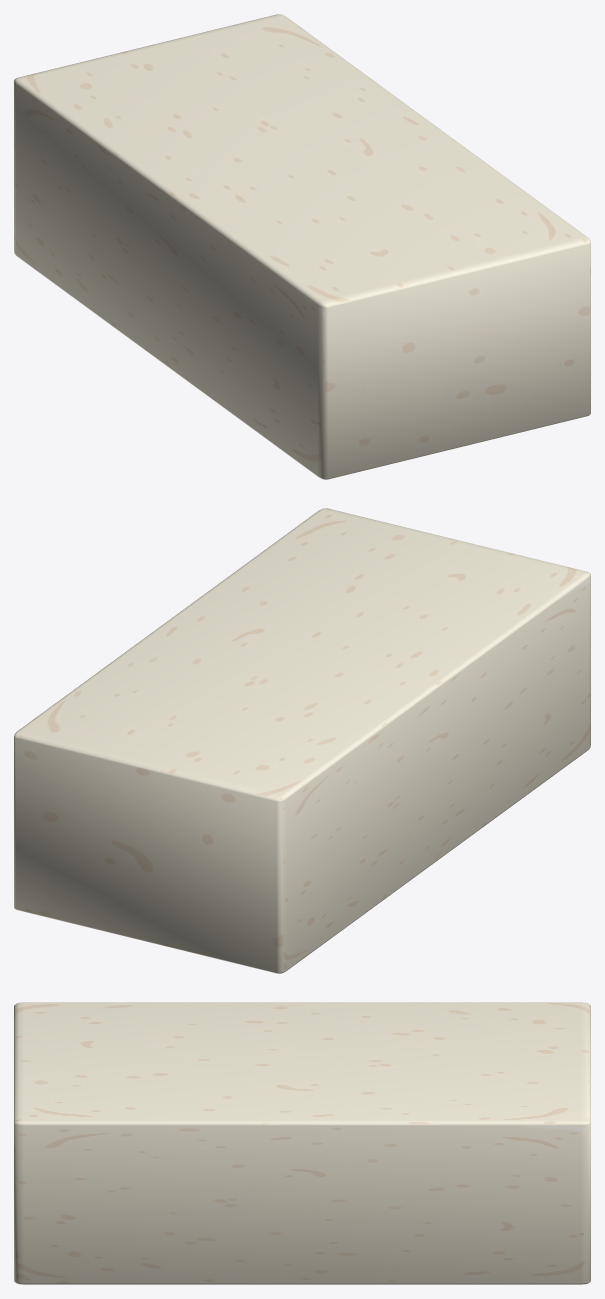
File: tofu.fbx
3 views of the same model, one above another, from view 1: azimuth 30°, elevation 25°; view 2: azimuth 150°, elevation 25°; view 3: azimuth 270°, elevation 25° (orthographic). The views are drawn at different scales.
Visible parts, largest first — view 1: Tofu; view 2: Tofu; view 3: Tofu.
Boxes of the visible parts, bbox=[...] form: Tofu: bbox=[14, 14, 590, 479]; Tofu: bbox=[14, 508, 590, 973]; Tofu: bbox=[14, 1002, 590, 1284].
Size of the model in its own units: 8 by 5 by 16.
Materials: 1 (1 with a texture image).
